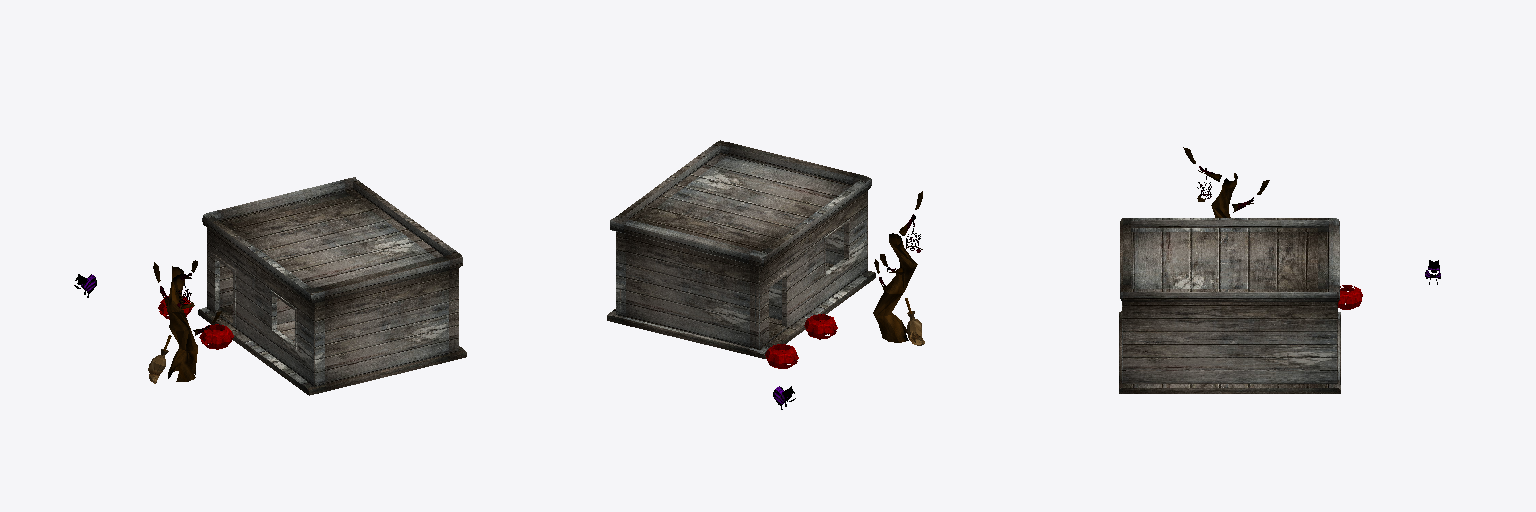
3 views of the same model, side by side, from view 1: azimuth 30°, elevation 25°; view 2: azimuth 150°, elevation 25°; view 3: azimuth 270°, elevation 25° (orthographic).
Parts seen in each view (by area): view 1: Cabin, Tree, Pampkin001; view 2: Cabin, Tree, Pampkin, Pampkin001; view 3: Cabin, Tree.
Boxes of the visible parts, x1=… form: Cabin: x1=198, y1=177, x2=466, y2=395; Tree: x1=166, y1=266, x2=197, y2=381; Pampkin001: x1=199, y1=324, x2=233, y2=349; Cabin: x1=607, y1=140, x2=875, y2=358; Tree: x1=873, y1=233, x2=917, y2=342; Pampkin: x1=765, y1=344, x2=798, y2=368; Pampkin001: x1=804, y1=314, x2=837, y2=339; Cabin: x1=1119, y1=218, x2=1340, y2=393; Tree: x1=1211, y1=173, x2=1237, y2=217.
Size of the model in its own units: 309 by 173 by 329.
Materials: 3 (3 with a texture image).